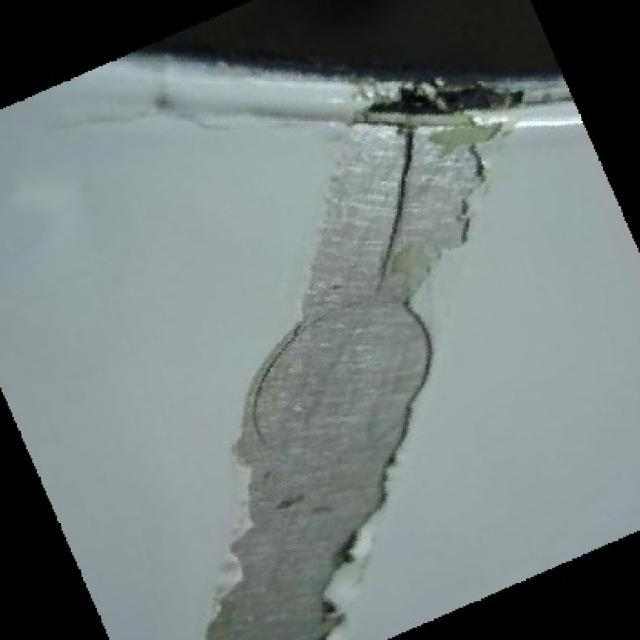crack: (379, 124, 415, 298)
